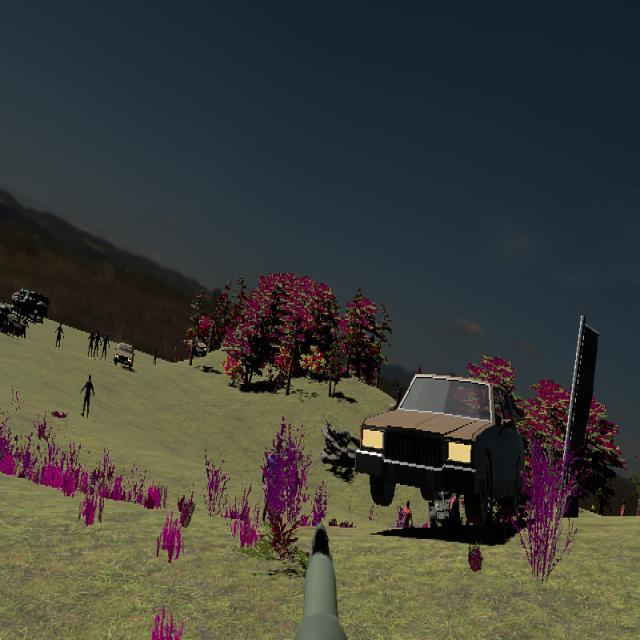car: (358, 372, 529, 519)
